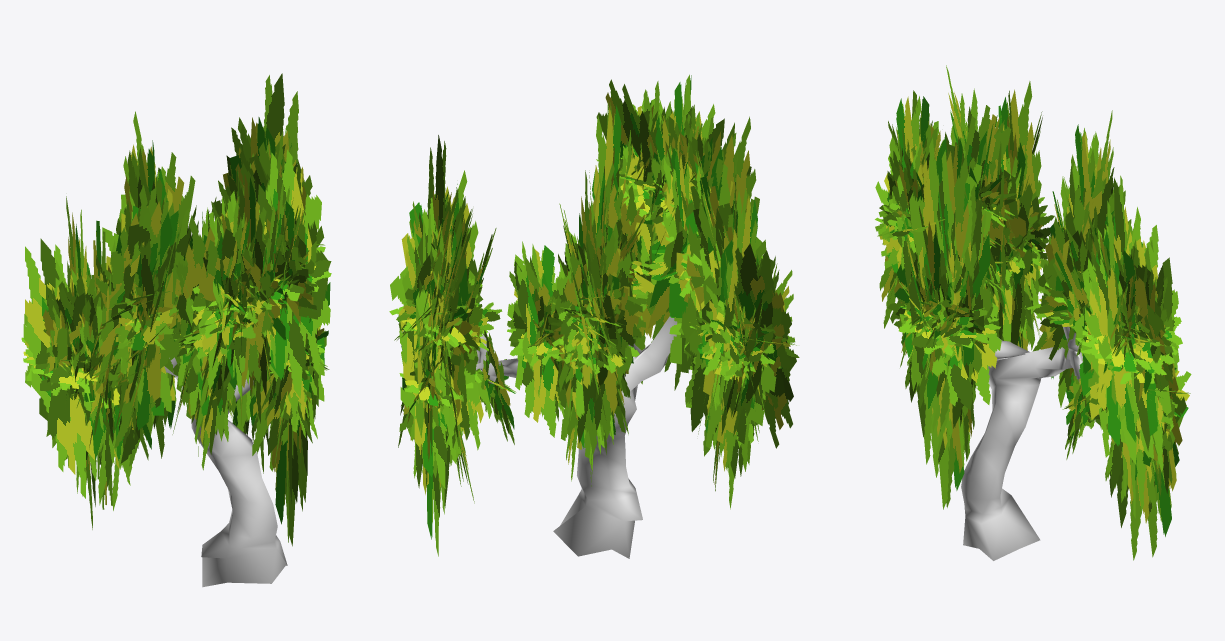
Rendered from tropic-tree2 1.fbx.
3 views of the same model, side by side, from view 1: azimuth 30°, elevation 25°; view 2: azimuth 150°, elevation 25°; view 3: azimuth 270°, elevation 25° (orthographic). The views are drawn at different scales.
Parts seen in each view (by area): view 1: Plane.001, Cube, Cube|Plane|Dupli|239, Cube|Plane|Dupli|188, Cube|Plane|Dupli|229, Cube|Plane|Dupli|171, Cube|Plane|Dupli|5, Cube|Plane|Dupli|250, Cube|Plane|Dupli|195, Cube|Plane|Dupli|141, Cube|Plane|Dupli|175, Cube|Plane|Dupli|223 (+42 smaller); view 2: Plane.001, Cube, Cube|Plane|Dupli|239, Cube|Plane|Dupli|71, Cube|Plane|Dupli|43, Cube|Plane|Dupli|269, Cube|Plane|Dupli|250, Cube|Plane|Dupli|113, Cube|Plane|Dupli|40, Cube|Plane|Dupli|285, Cube|Plane|Dupli|251, Cube|Plane|Dupli|188 (+40 smaller); view 3: Plane.001, Cube, Cube|Plane|Dupli|5, Cube|Plane|Dupli|141, Cube|Plane|Dupli|117, Cube|Plane|Dupli|2, Cube|Plane|Dupli|14, Cube|Plane|Dupli|10, Cube|Plane|Dupli|285, Cube|Plane|Dupli|144, Cube|Plane|Dupli|251, Cube|Plane|Dupli|44 (+42 smaller).
Boxes of the visible parts, x1,y1,x2,y2 form: Plane.001: [21, 244, 331, 414]; Cube: [164, 357, 287, 587]; Cube|Plane|Dupli|239: [23, 238, 94, 498]; Cube|Plane|Dupli|188: [257, 149, 330, 398]; Cube|Plane|Dupli|229: [111, 187, 179, 436]; Cube|Plane|Dupli|171: [175, 215, 236, 447]; Cube|Plane|Dupli|5: [271, 160, 317, 546]; Cube|Plane|Dupli|250: [92, 240, 132, 510]; Cube|Plane|Dupli|195: [235, 171, 269, 423]; Cube|Plane|Dupli|141: [263, 73, 303, 424]; Cube|Plane|Dupli|175: [192, 227, 252, 332]; Cube|Plane|Dupli|223: [95, 241, 144, 391]; Plane.001: [389, 157, 799, 418]; Cube: [476, 316, 677, 558]; Cube|Plane|Dupli|239: [727, 243, 796, 448]; Cube|Plane|Dupli|71: [558, 222, 632, 454]; Cube|Plane|Dupli|43: [507, 245, 566, 437]; Cube|Plane|Dupli|269: [702, 238, 776, 460]; Cube|Plane|Dupli|250: [681, 200, 750, 467]; Cube|Plane|Dupli|113: [416, 209, 491, 450]; Cube|Plane|Dupli|40: [399, 321, 456, 488]; Cube|Plane|Dupli|285: [719, 190, 761, 509]; Cube|Plane|Dupli|251: [685, 239, 766, 456]; Cube|Plane|Dupli|188: [596, 79, 657, 172]; Plane.001: [875, 177, 1191, 434]; Cube: [959, 317, 1082, 560]; Cube|Plane|Dupli|5: [908, 137, 969, 509]; Cube|Plane|Dupli|141: [1107, 175, 1135, 518]; Cube|Plane|Dupli|117: [1118, 225, 1179, 436]; Cube|Plane|Dupli|2: [936, 150, 977, 507]; Cube|Plane|Dupli|14: [938, 185, 991, 428]; Cube|Plane|Dupli|10: [932, 276, 1001, 410]; Cube|Plane|Dupli|285: [998, 81, 1041, 350]; Cube|Plane|Dupli|144: [1091, 224, 1149, 458]; Cube|Plane|Dupli|251: [1001, 142, 1032, 345]; Cube|Plane|Dupli|44: [1055, 167, 1131, 291].
Size of the model in its own units: 3115 by 4441 by 2670.
